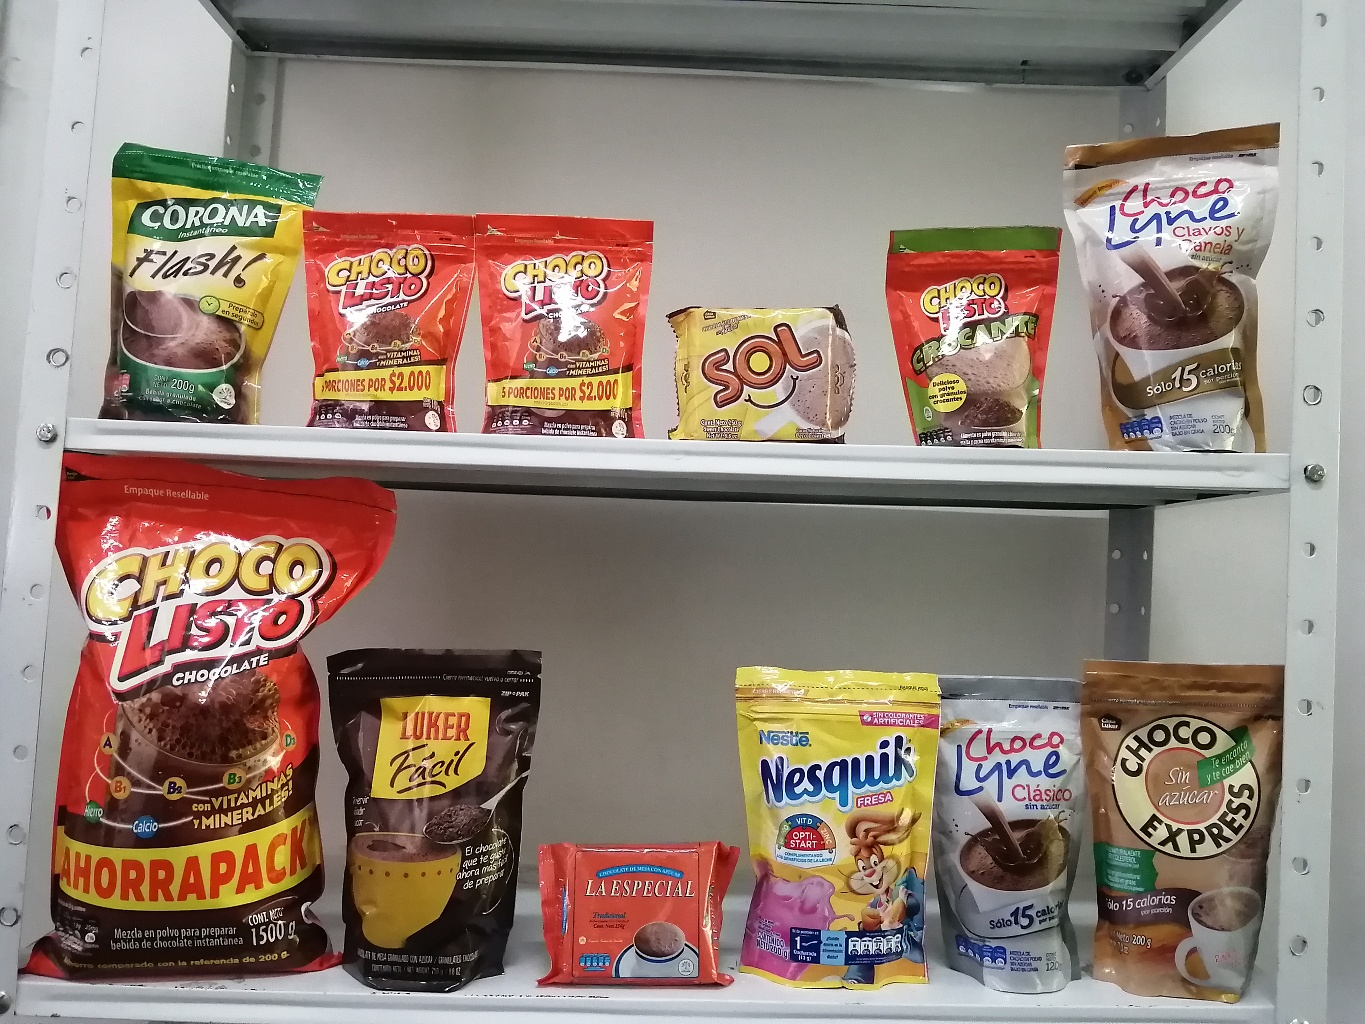COL0170102DYP10000: (861, 205, 1077, 463)
COL0170103DYP1,500: (9, 428, 403, 1002)
COL0170305DYP20000: (711, 641, 952, 1004)
